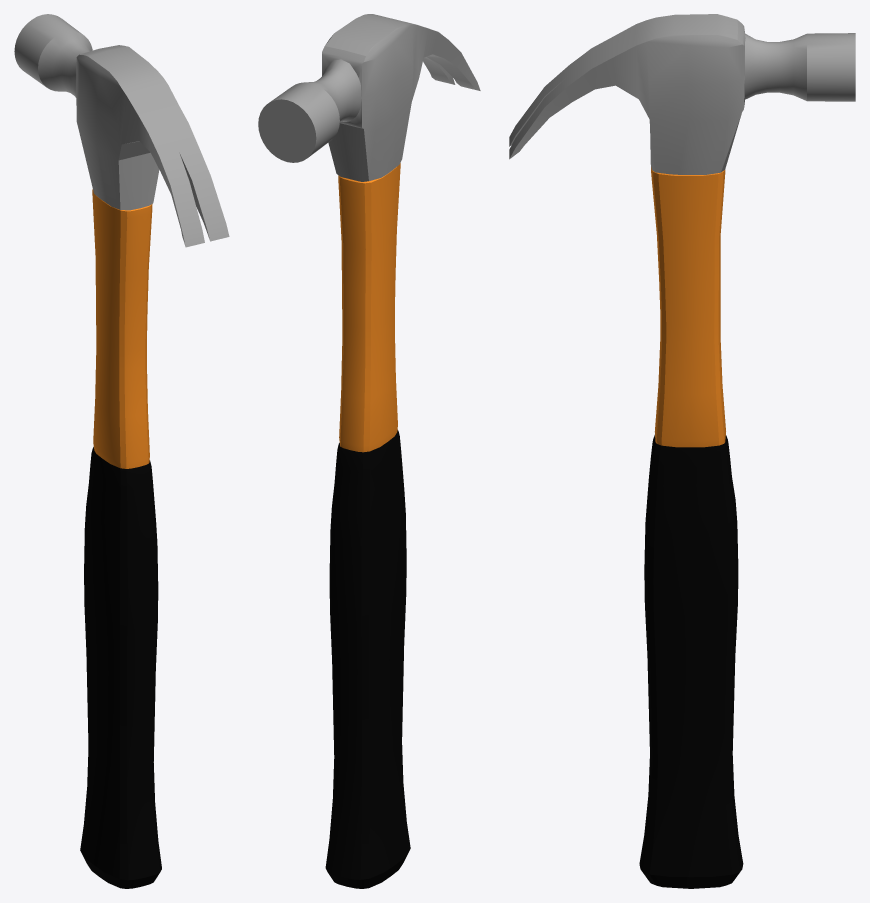
File: Texturing_Hammer.fbx
3 views of the same model, side by side, from view 1: azimuth 30°, elevation 25°; view 2: azimuth 150°, elevation 25°; view 3: azimuth 270°, elevation 25° (orthographic). The views are drawn at different scales.
Visible parts, largest first — view 1: Hammer; view 2: Hammer; view 3: Hammer.
Part boxes in pixels (<box>): Hammer: <box>14,14,229,888</box>; Hammer: <box>258,14,480,888</box>; Hammer: <box>509,14,855,888</box>.
Size of the model in its own units: 4.31 by 60.02 by 22.01.
